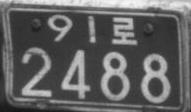1: (80, 15, 105, 43)
2: (21, 46, 52, 97)
4: (60, 49, 90, 99)
8: (140, 52, 171, 104), (99, 50, 130, 101)
9: (47, 13, 73, 43)
로: (110, 16, 138, 44)
